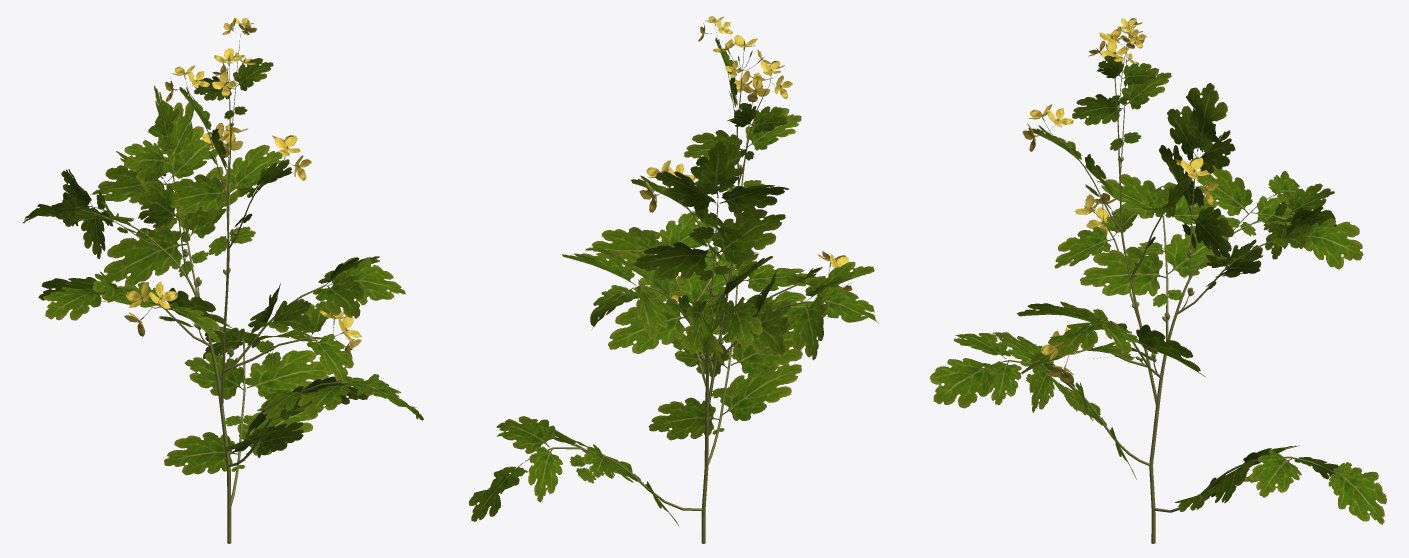
The picture shows the model from 3 angles, left to right: view 1: azimuth 30°, elevation 25°; view 2: azimuth 150°, elevation 25°; view 3: azimuth 270°, elevation 25°; orthographic projection. The views are drawn at different scales.
Visible parts, largest first — view 1: GC06_01; view 2: GC06_01; view 3: GC06_01.
Part boxes in pixels (<box>): GC06_01: <box>23,17,423,543</box>; GC06_01: <box>469,16,879,543</box>; GC06_01: <box>930,18,1386,543</box>.
Size of the model in its own units: 2.83 by 4.03 by 3.32.
Materials: 5 (5 with a texture image).
